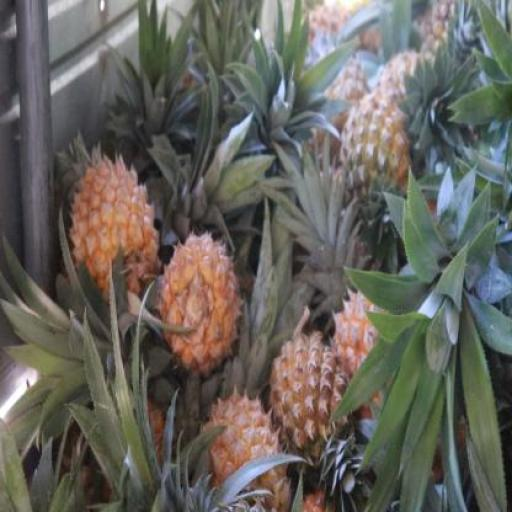Pineapple - v8 v1: (67, 150, 158, 297), (270, 327, 349, 474), (200, 384, 291, 507), (158, 229, 238, 363)
